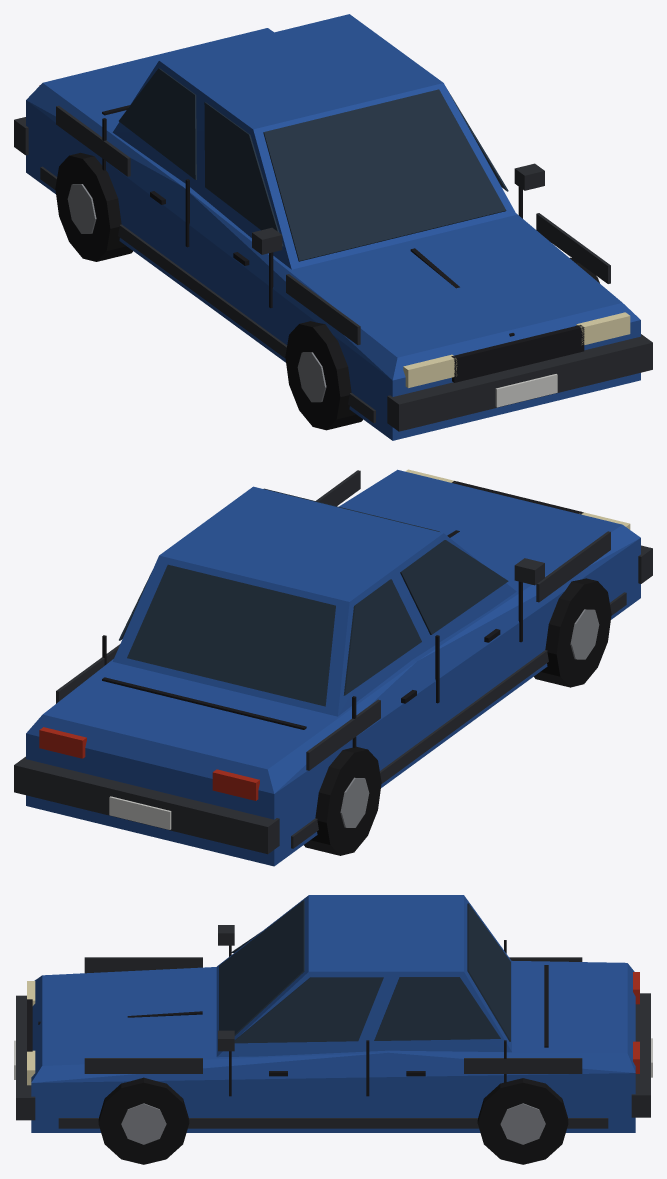
The model's file is vehicle_car.glb.
3 renders of one model, top to bottom at view 1: azimuth 30°, elevation 25°; view 2: azimuth 150°, elevation 25°; view 3: azimuth 270°, elevation 25°, orthographic. The views are drawn at different scales.
Parts seen in each view (by area): view 1: body, wheels; view 2: body, wheels; view 3: body, wheels.
Part boxes in pixels (left/top/right/bottom): body: left=14, top=14, right=652, bottom=440; wheels: left=55, top=152, right=599, bottom=430; body: left=14, top=469, right=652, bottom=866; wheels: left=304, top=578, right=611, bottom=855; body: left=14, top=895, right=652, bottom=1132; wheels: left=98, top=1077, right=568, bottom=1164.
Bounding box in the file's own units: 1.96 × 1.42 × 4.65.
